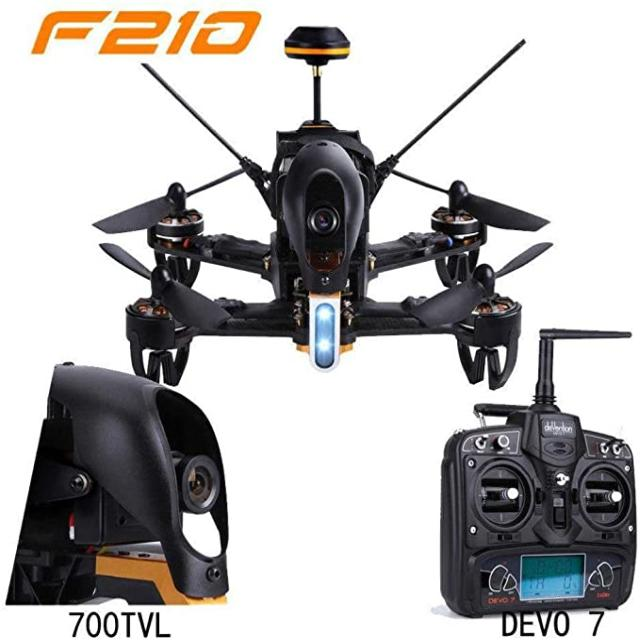drone: (50, 56, 586, 393)
